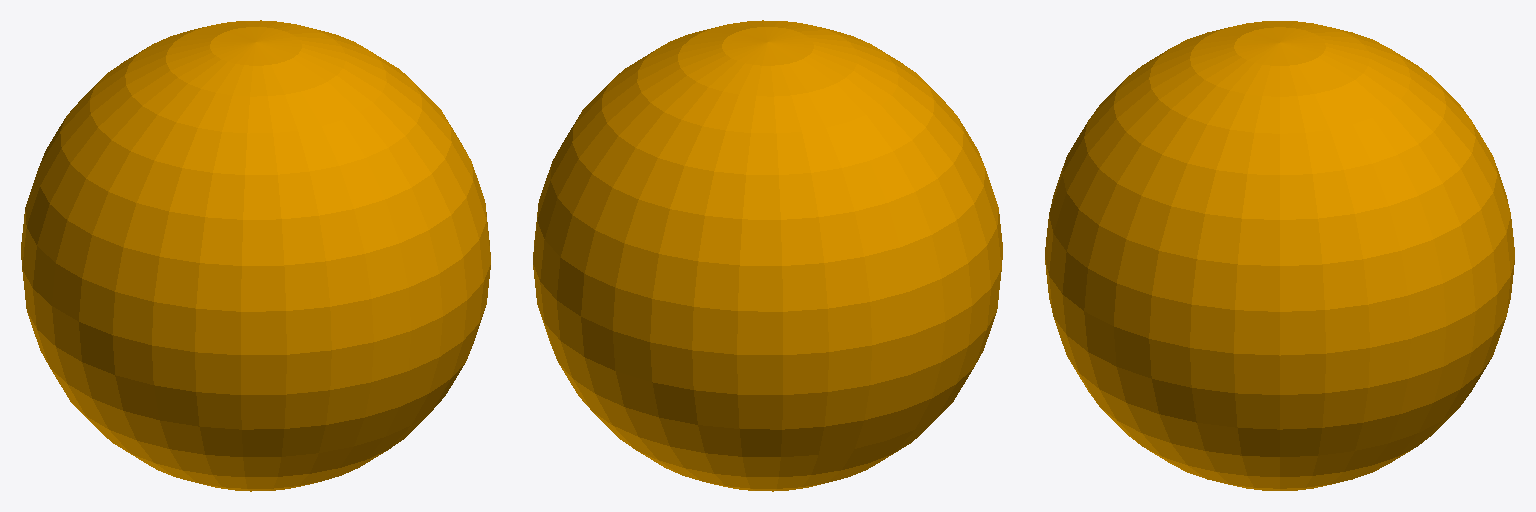
robot.urdf — sphere:
<?xml version="1.0"?>
<robot name="sphere">
<link name="body">
  <inertial>
   <mass value="1"/>
   <inertia ixx="0.1" ixy="0" ixz="0" iyy="0.1" iyz="0" izz="0.1"/>
  </inertial>
  <collision>
    <origin rpy="0 0 0" xyz="0 0 0"/>
    <geometry>
      <sphere radius="0.24"/>
    </geometry>
  </collision>
  <visual>
    <origin rpy="0 0 0" xyz="0 0 0"/>
    <geometry>
      <sphere radius="0.24"/>
    </geometry>
  </visual>
</link>

  <klampt package_root="../../.." default_acc_max="4" >
  </klampt>
</robot>

--- Facts derived from the render (not from the file) ---
Views: 3 orthographic renders of the robot side by side, from view 1: azimuth 30°, elevation 25°; view 2: azimuth 150°, elevation 25°; view 3: azimuth 270°, elevation 25°.
Robot: sphere — 1 links, 0 joints (none); root link body; default pose: all joints at 0.
Links seen in each view (by area): view 1: body; view 2: body; view 3: body.
Boxes of the visible links, bbox=[...] form: body: bbox=[21, 20, 490, 491]; body: bbox=[533, 20, 1002, 491]; body: bbox=[1045, 21, 1514, 490].
Size in the robot's own frame: 0.48 by 0.48 by 0.48 metres.
Geometry: primitives only (box / cylinder / sphere), no mesh files.